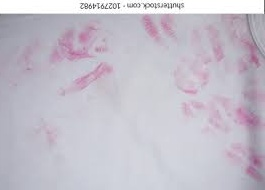lipstick: (136, 12, 260, 78), (50, 21, 110, 61), (51, 64, 116, 94), (172, 56, 215, 97), (180, 100, 224, 133), (228, 143, 263, 178), (228, 103, 263, 133), (7, 43, 33, 82), (36, 118, 59, 147)
